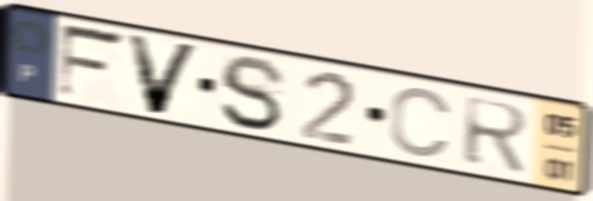2: (299, 68, 360, 150)
C: (386, 85, 456, 161)
F: (54, 20, 131, 103)
R: (460, 93, 534, 176)
S: (217, 52, 289, 135)
V: (122, 29, 205, 119)
